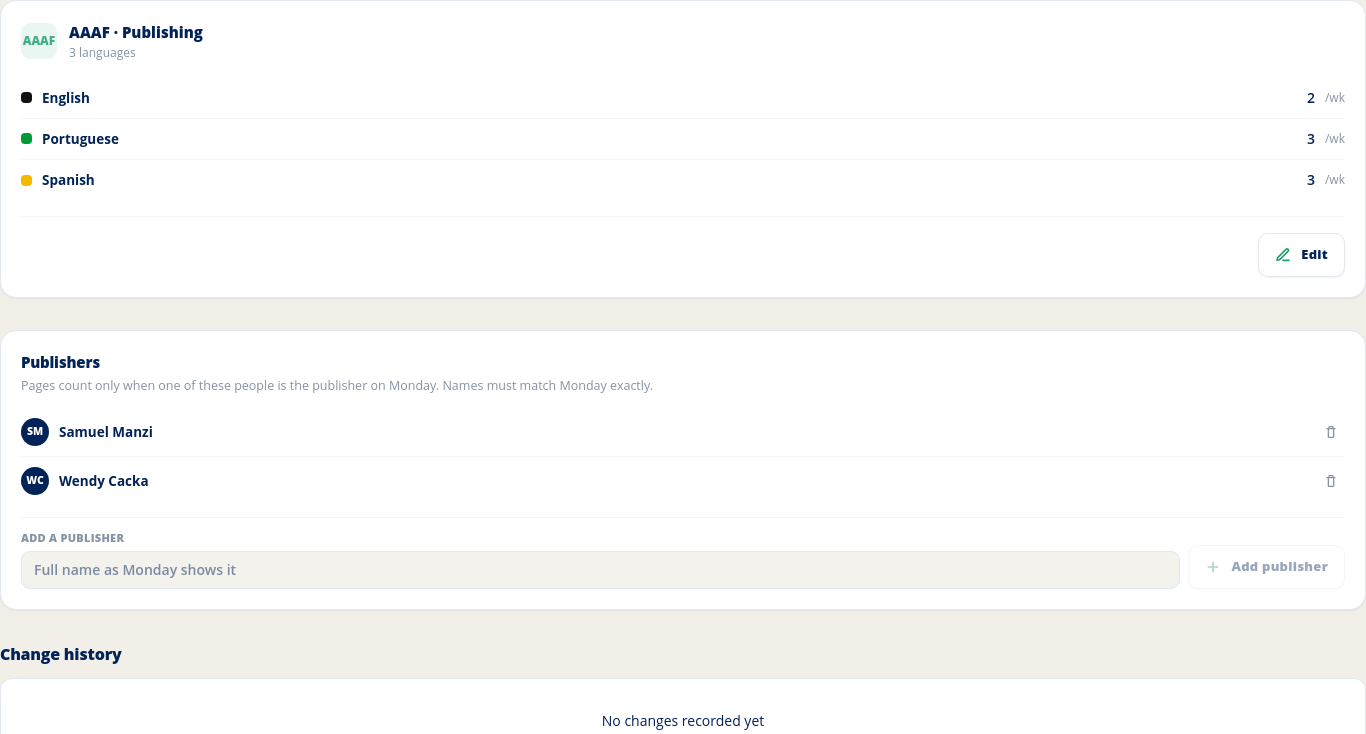
Test: TargetsEditor (audit, 10 October 2026) › offers only the languages the site publishes that have no target yet
Click the button "Edit": (1302, 255) [1258,233,1345,277]
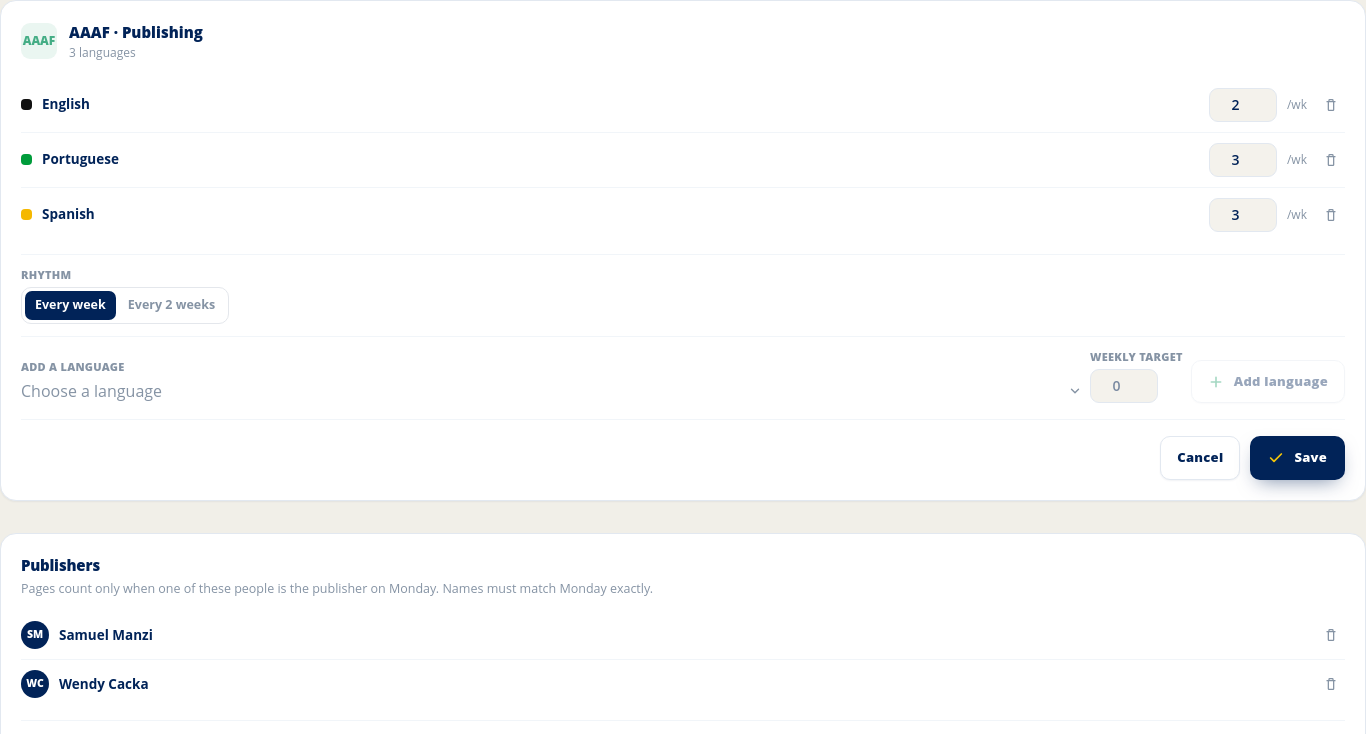
Now the text "Add a language" is shown, box [21,359,125,374]
Click the button with aria-label "Language to add on AAAF": (92, 391) [21,379,1082,403]
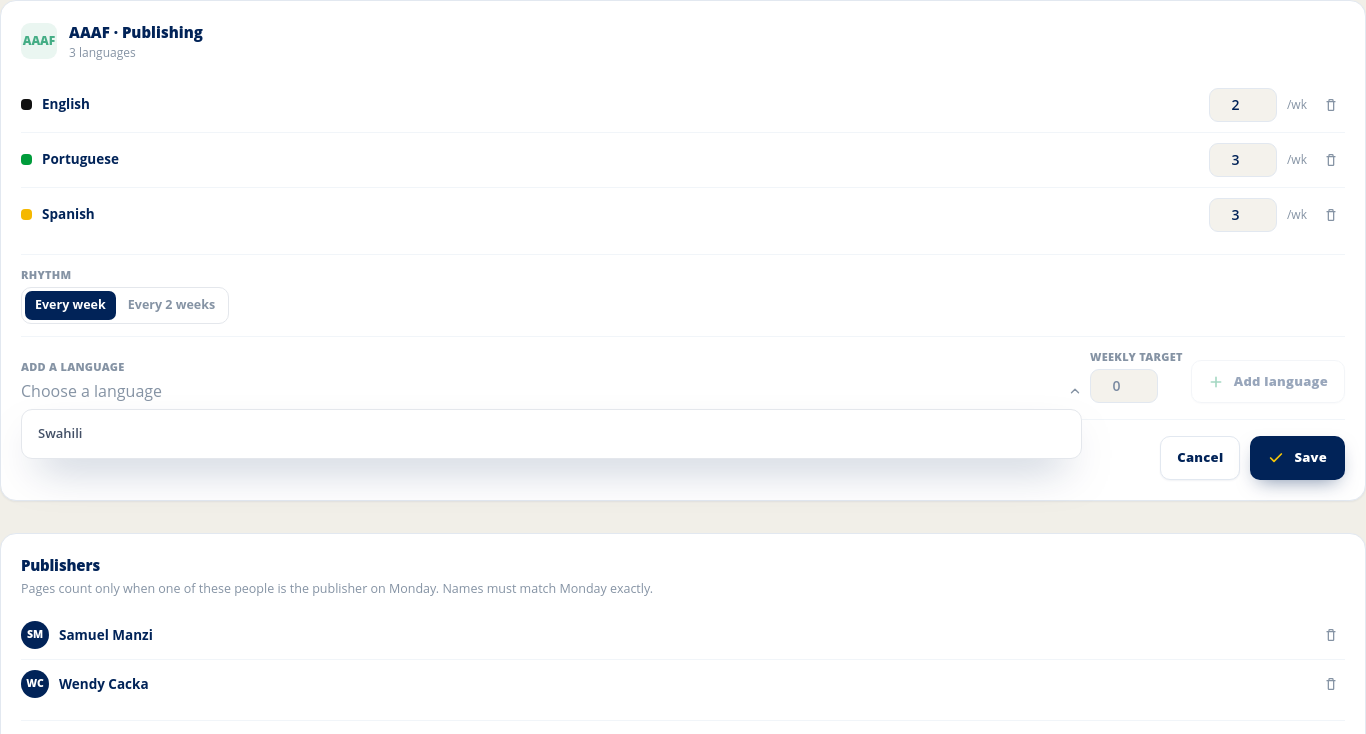
Now the options read "Swahili", in this order, box [28,416,1075,452]
